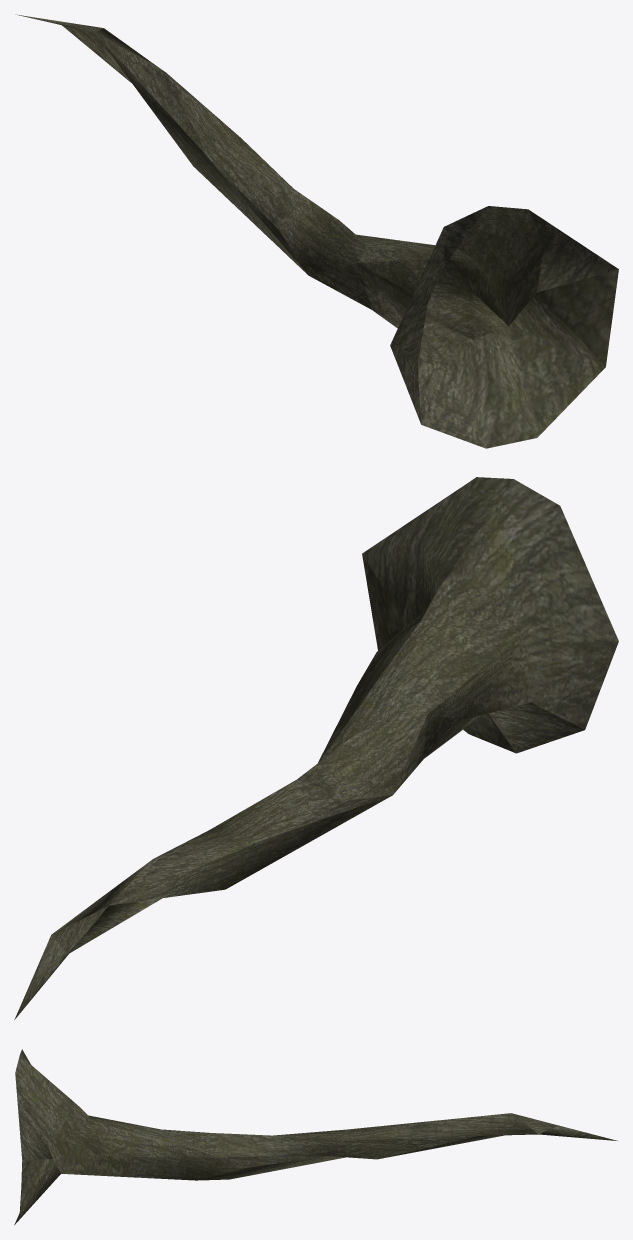
File: tree1.FBX
The picture shows the model from 3 angles, top to bottom: view 1: azimuth 30°, elevation 25°; view 2: azimuth 150°, elevation 25°; view 3: azimuth 270°, elevation 25°; orthographic projection. The views are drawn at different scales.
Visible parts, largest first — view 1: TI_Old_Tree_01_LOD_02; view 2: TI_Old_Tree_01_LOD_02; view 3: TI_Old_Tree_01_LOD_02.
Boxes of the visible parts, x1,y1,x2,y2 form: TI_Old_Tree_01_LOD_02: (15, 14, 618, 448); TI_Old_Tree_01_LOD_02: (14, 477, 618, 1019); TI_Old_Tree_01_LOD_02: (14, 1049, 617, 1224).
Size of the model in its own units: 1.23 by 1.25 by 4.34.
